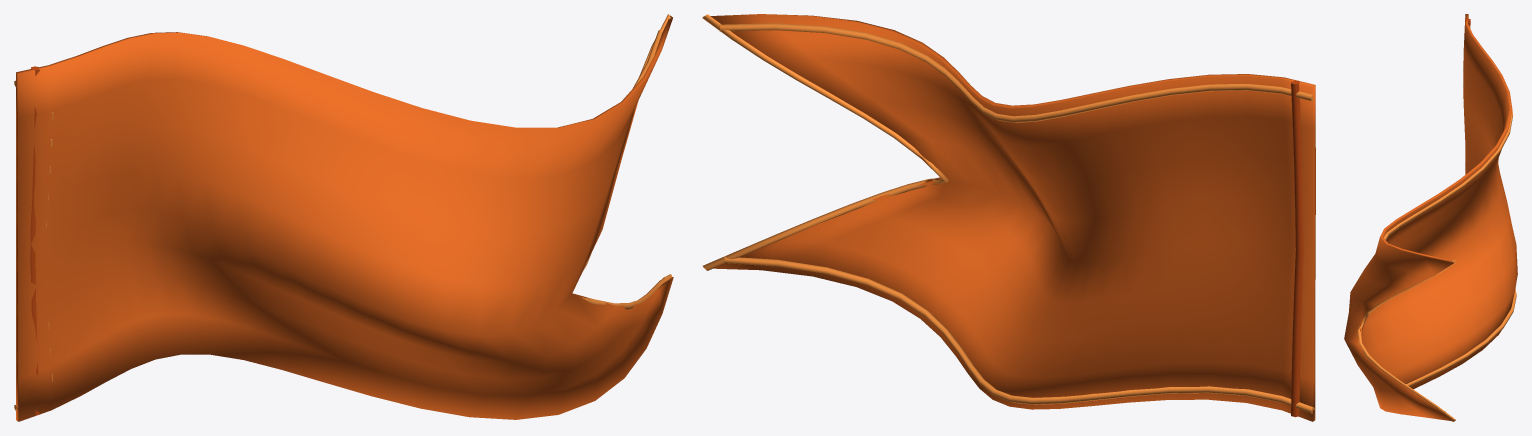
Rendered from wsc-prop-028-course-flag-gust.glb.
3 views of the same model, side by side, from view 1: azimuth 30°, elevation 25°; view 2: azimuth 150°, elevation 25°; view 3: azimuth 270°, elevation 25° (orthographic). The views are drawn at different scales.
Parts seen in each view (by area): view 1: CourseFlag_Cloth_Gust; view 2: CourseFlag_Cloth_Gust; view 3: CourseFlag_Cloth_Gust.
Part boxes in pixels (bbox=[...]): CourseFlag_Cloth_Gust: bbox=[14, 14, 673, 421]; CourseFlag_Cloth_Gust: bbox=[702, 14, 1315, 421]; CourseFlag_Cloth_Gust: bbox=[1344, 14, 1517, 421].
Bounding box in the file's own units: 1.14 × 0.6954 × 0.4344.
